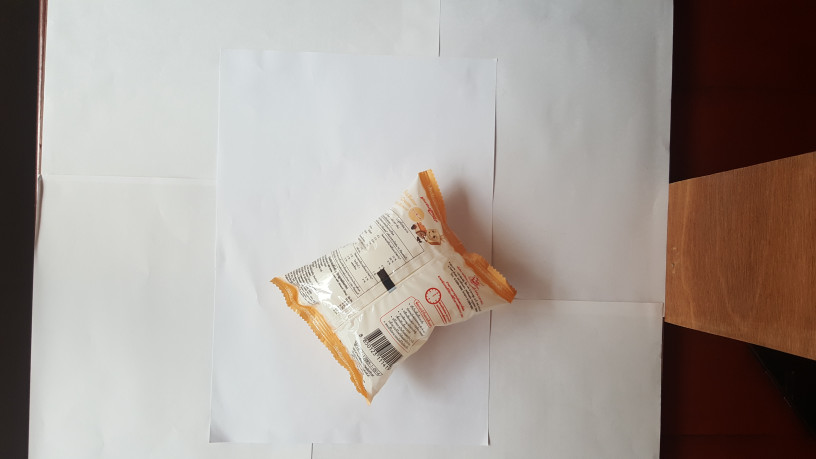farmhouse-sweetsandwich-almond: (272, 169, 515, 403)
